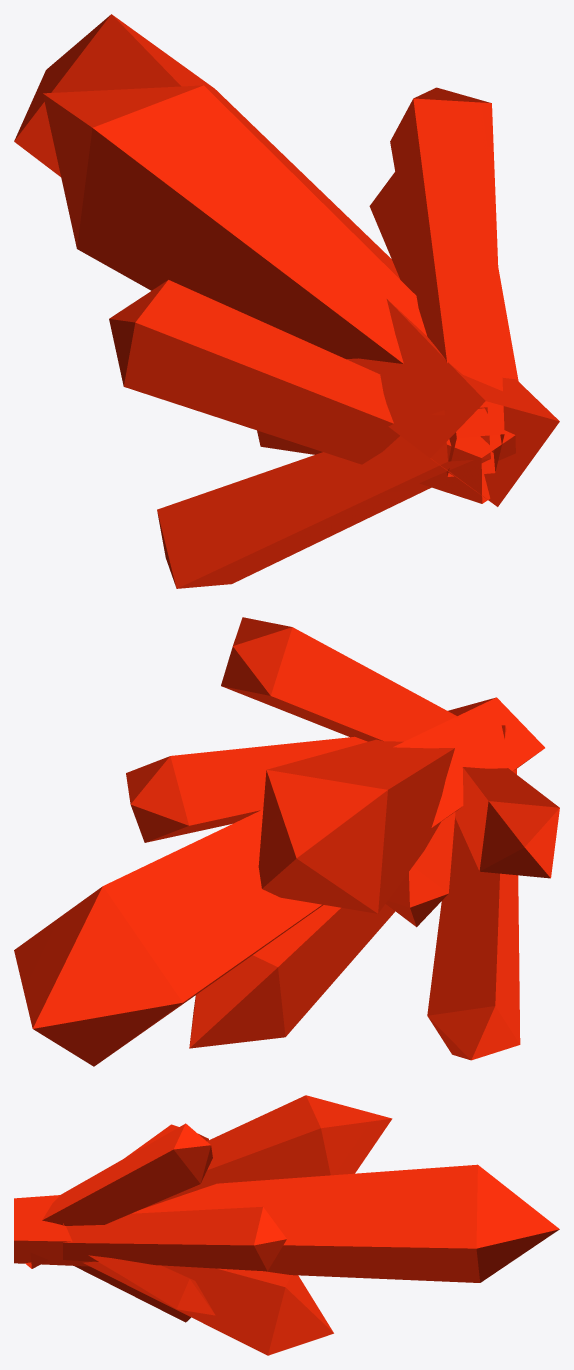
Rendered from MuzzleFlash.fbx.
3 views of the same model, one above another, from view 1: azimuth 30°, elevation 25°; view 2: azimuth 150°, elevation 25°; view 3: azimuth 270°, elevation 25° (orthographic). The views are drawn at different scales.
Parts seen in each view (by area): view 1: Object082; view 2: Object082; view 3: Object082.
Part boxes in pixels (x1,y1,x2,y2): Object082: (14,14,559,588); Object082: (14,617,559,1066); Object082: (14,1095,559,1355).
Bounding box in the file's own units: 16.61 × 16.66 × 33.08.
